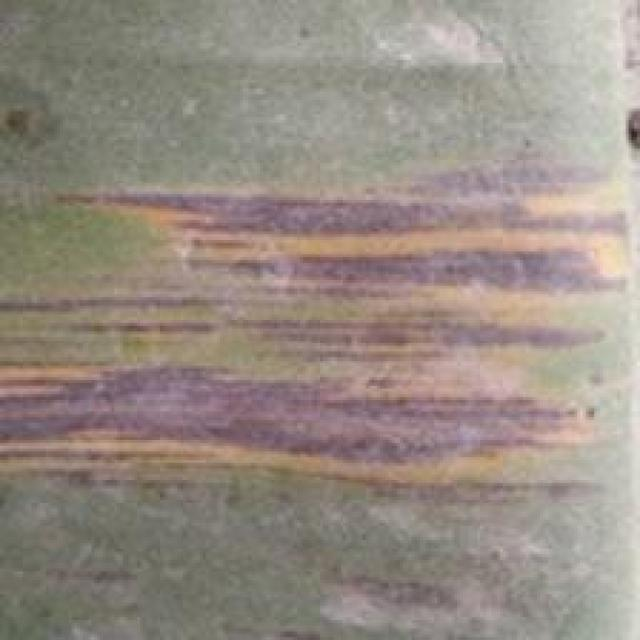Early_leaf_spot: (0, 156, 634, 500), (276, 538, 454, 638), (605, 70, 640, 170)
